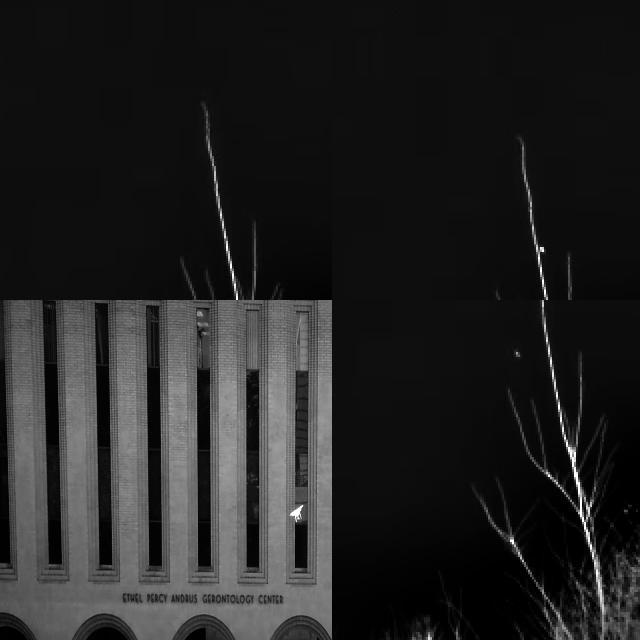0: (502, 342, 526, 370), (534, 241, 550, 263)
drone: (287, 500, 307, 530)
